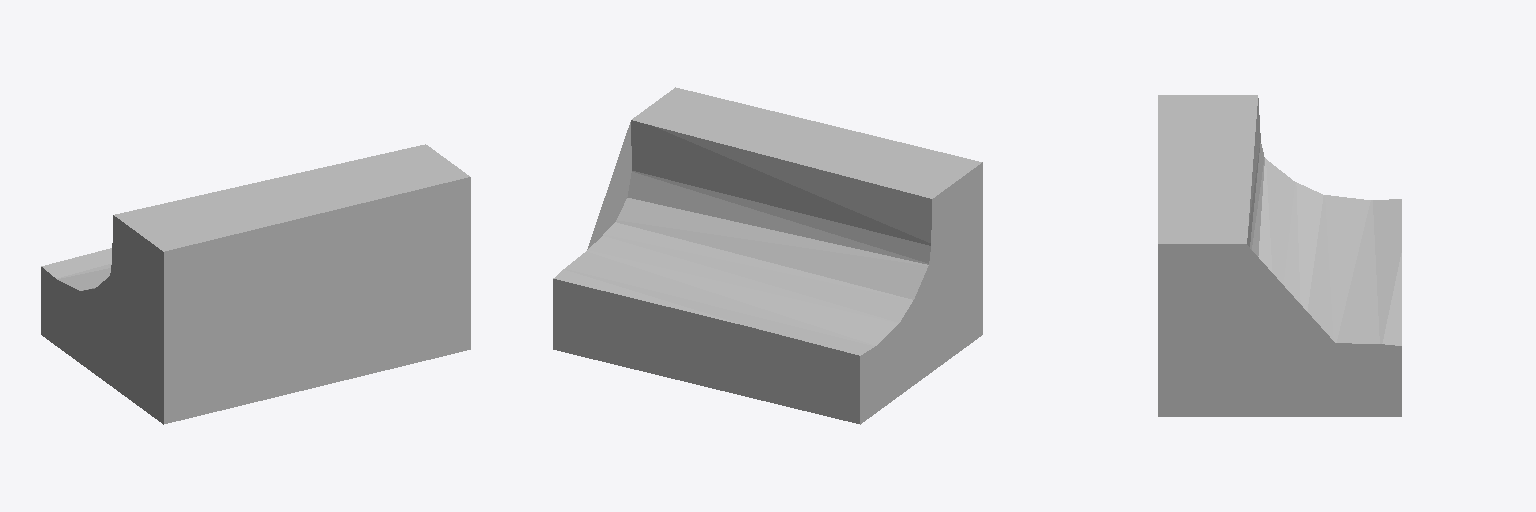
The model's file is sideblock_break.obj.
3 views of the same model, side by side, from view 1: azimuth 30°, elevation 25°; view 2: azimuth 150°, elevation 25°; view 3: azimuth 270°, elevation 25° (orthographic).
Parts seen in each view (by area): view 1: sideblock_break; view 2: sideblock_break; view 3: sideblock_break.
Boxes of the visible parts, <box> form: sideblock_break: <box>41,144,470,424</box>; sideblock_break: <box>553,87,982,424</box>; sideblock_break: <box>1158,95,1401,416</box>.
Bounding box in the file's own units: 0.435 × 0.234 × 0.3.